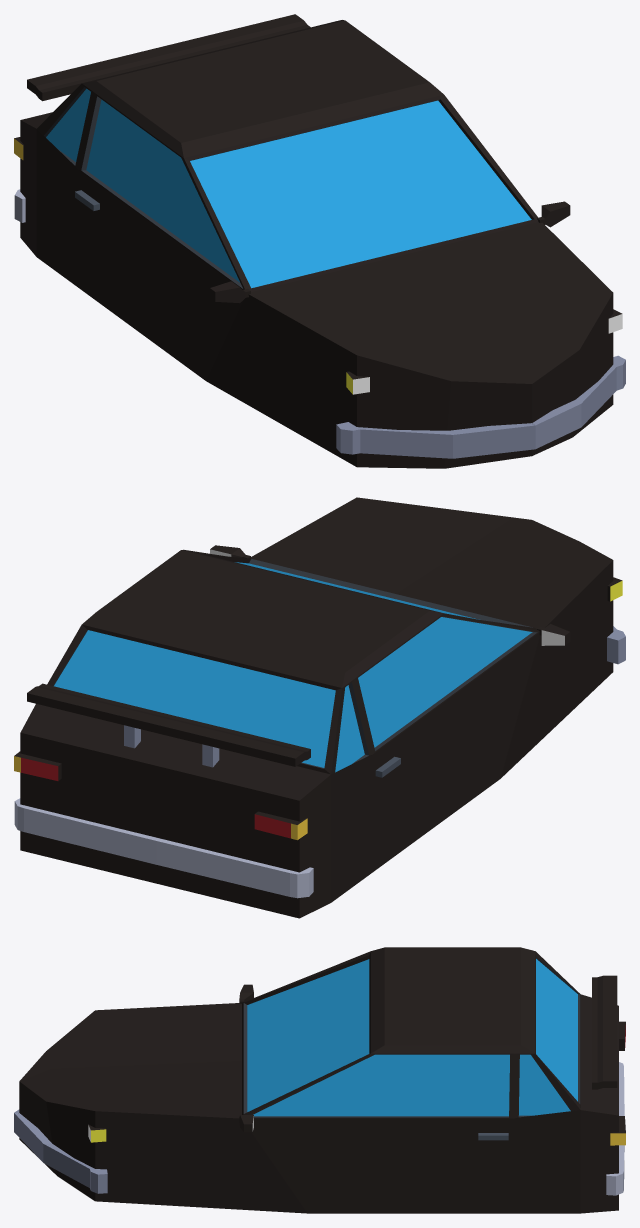
File: BlackCar.glb
3 views of the same model, one above another, from view 1: azimuth 30°, elevation 25°; view 2: azimuth 150°, elevation 25°; view 3: azimuth 270°, elevation 25° (orthographic). The views are drawn at different scales.
Visible parts, largest first — view 1: SportBlack1; view 2: SportBlack1; view 3: SportBlack1.
Part boxes in pixels (x1,y1,x2,y2): SportBlack1: (14,14,625,468); SportBlack1: (14,497,625,918); SportBlack1: (14,947,625,1213).
Bounding box in the file's own units: 4.53 × 2.41 × 8.39.
Materials: 1 (1 with a texture image).
